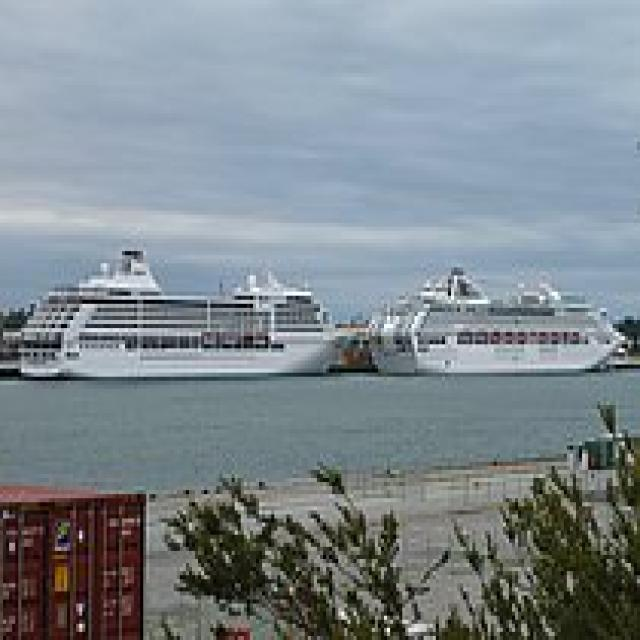Cruise: (12, 243, 357, 377), (360, 259, 624, 377)
